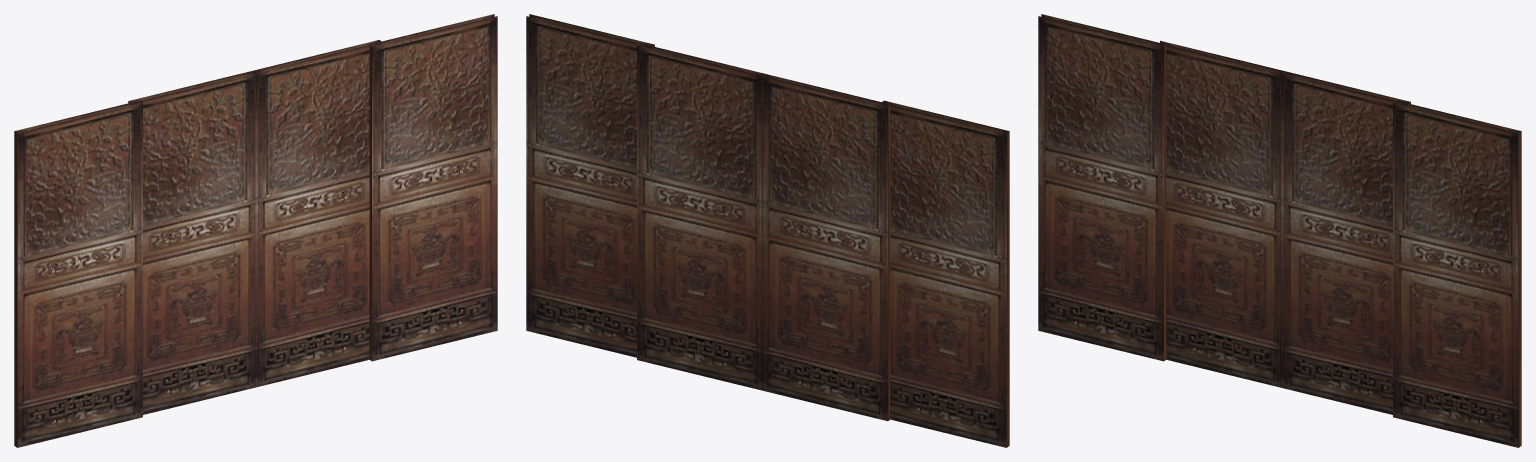
File: sn05door.FBX
3 views of the same model, side by side, from view 1: azimuth 30°, elevation 25°; view 2: azimuth 150°, elevation 25°; view 3: azimuth 330°, elevation 25° (orthographic).
Visible parts, largest first — view 1: doorl08, doorr07, doorl07, doorr08; view 2: doorl07, doorr08, doorl08, doorr07; view 3: doorl08, doorr07, doorl07, doorr08.
Part boxes in pixels (left/top/right/bottom): doorl08: left=14, top=100, right=142, bottom=447; doorr07: left=369, top=14, right=497, bottom=361; doorl07: left=128, top=70, right=256, bottom=414; doorr08: left=254, top=40, right=382, bottom=386; doorl07: left=762, top=74, right=890, bottom=421; doorr08: left=637, top=43, right=765, bottom=390; doorl08: left=881, top=100, right=1009, bottom=447; doorr07: left=526, top=14, right=654, bottom=357; doorl08: left=1038, top=14, right=1166, bottom=361; doorr07: left=1393, top=100, right=1521, bottom=447; doorl07: left=1157, top=40, right=1285, bottom=387; doorr08: left=1282, top=71, right=1410, bottom=414.
Bounding box in the file's own units: 96.66 × 60.54 × 1.81.
Materials: 2 (2 with a texture image).
